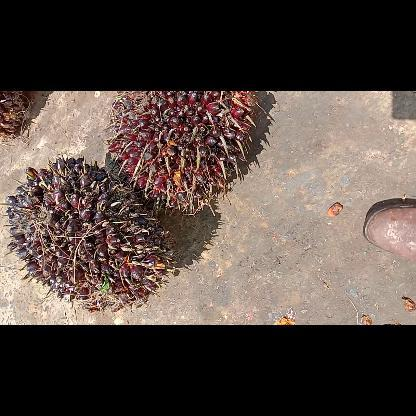TBS mentah: (4, 158, 172, 312), (110, 90, 260, 209)
